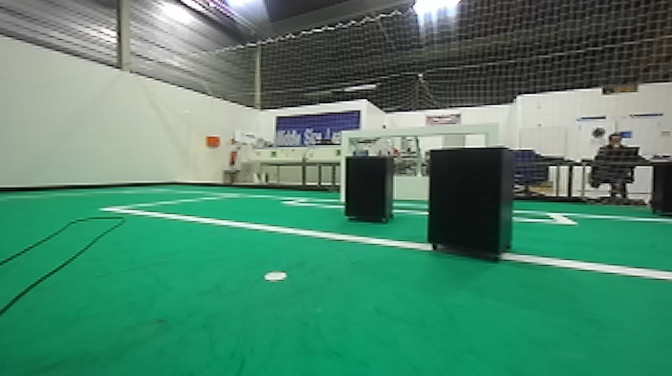goalpost: (336, 132, 351, 209), (480, 121, 503, 149)
